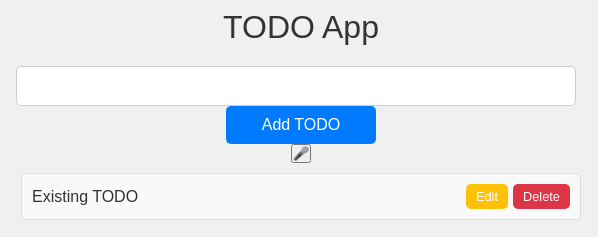
edits a TODO
Click the button "Edit" at (487, 196), box left=466, top=184, right=508, bottom=209
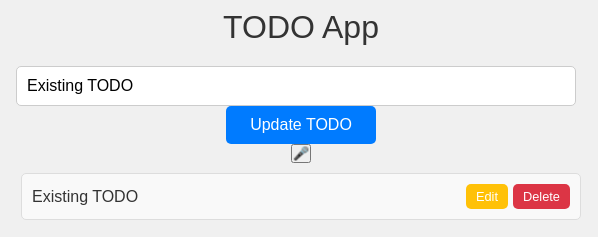
Replace the text in the field with "Updated TODO" at (296, 86), box left=16, top=66, right=576, bottom=106
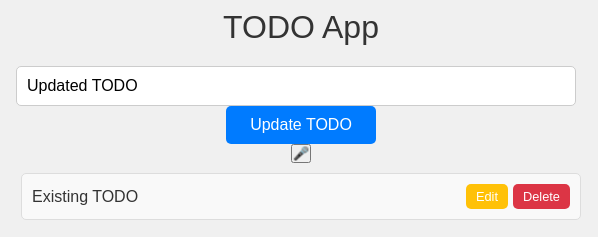
Click the button "Update TODO" at (301, 125), box left=226, top=106, right=376, bottom=144
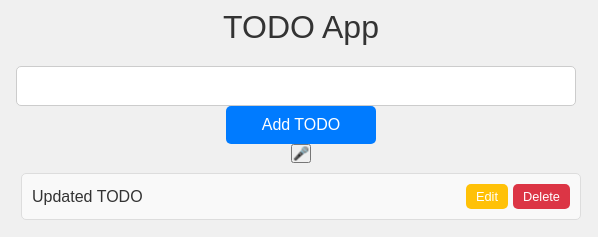
Now the text "Updated TODO" is shown, box left=32, top=188, right=143, bottom=204
